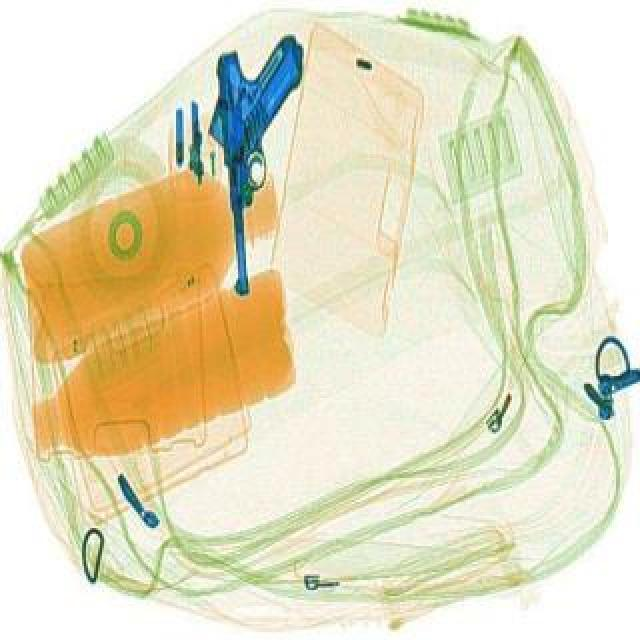gun: (200, 30, 302, 294)
